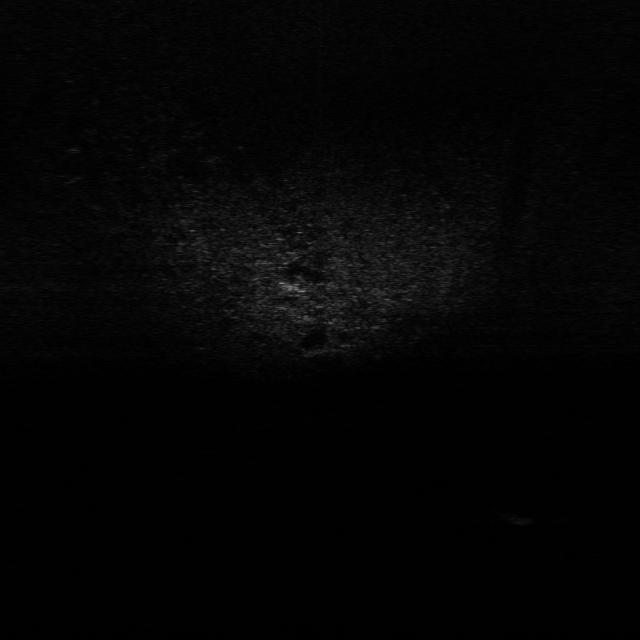cylinder: (493, 506, 537, 526)
